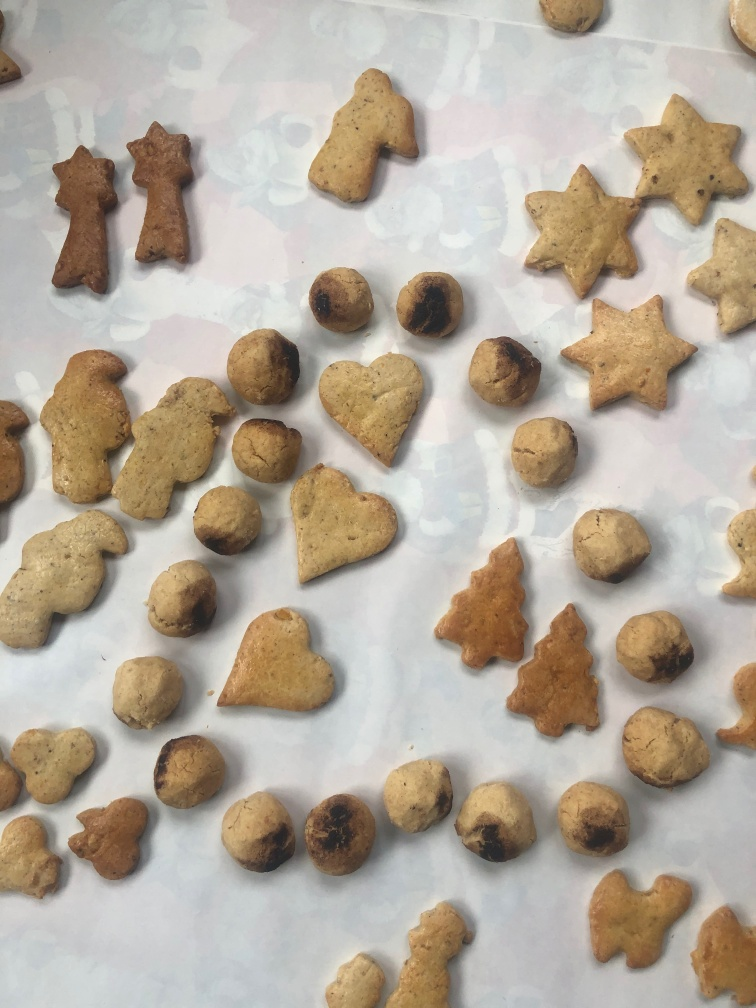angel: (305, 63, 421, 211)
christmas tree: (505, 597, 607, 745), (433, 529, 533, 679)
flake: (67, 788, 159, 888), (8, 724, 97, 813), (1, 816, 68, 910)
heart: (309, 349, 438, 474), (284, 463, 405, 596), (213, 604, 337, 724)
lamb: (583, 860, 696, 977)
santa claus: (3, 511, 132, 659), (110, 373, 232, 522), (37, 346, 132, 510)
shooting star: (45, 135, 125, 304), (127, 115, 199, 274)
snowball: (617, 702, 713, 796), (454, 779, 538, 867), (221, 786, 300, 879), (549, 779, 632, 862), (109, 652, 191, 735), (305, 789, 378, 882), (614, 607, 697, 688), (226, 329, 302, 417), (464, 334, 544, 417), (142, 557, 222, 639), (378, 751, 454, 837), (570, 503, 653, 581), (152, 730, 228, 812), (308, 264, 383, 339), (507, 416, 580, 493), (192, 481, 265, 557), (232, 415, 308, 484), (394, 267, 462, 344)
snowman: (384, 896, 475, 1007)
star: (557, 293, 701, 433), (519, 159, 641, 311), (621, 89, 754, 228), (681, 213, 756, 339)
